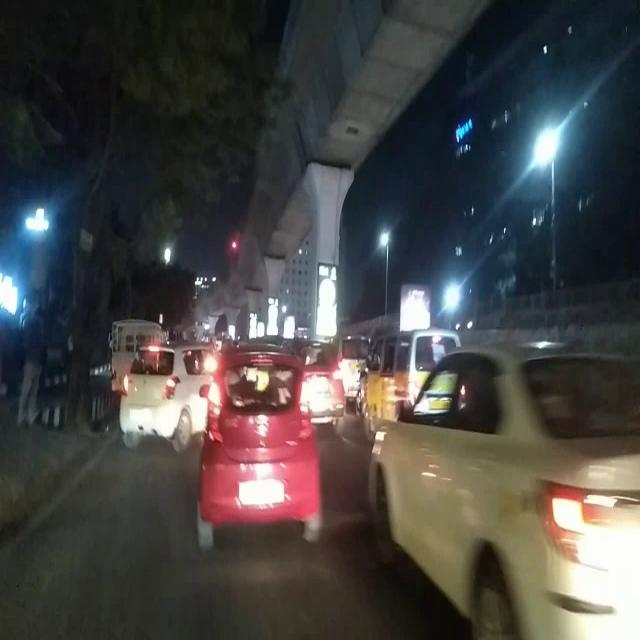car: (370, 350, 640, 640), (200, 348, 326, 554), (122, 335, 208, 457), (369, 326, 467, 423), (336, 322, 366, 410)
pole: (385, 249, 390, 326)
road: (0, 500, 438, 640), (79, 413, 370, 500), (550, 162, 558, 292)
sidewalk: (1, 400, 80, 499), (89, 367, 115, 430), (46, 374, 77, 398)
